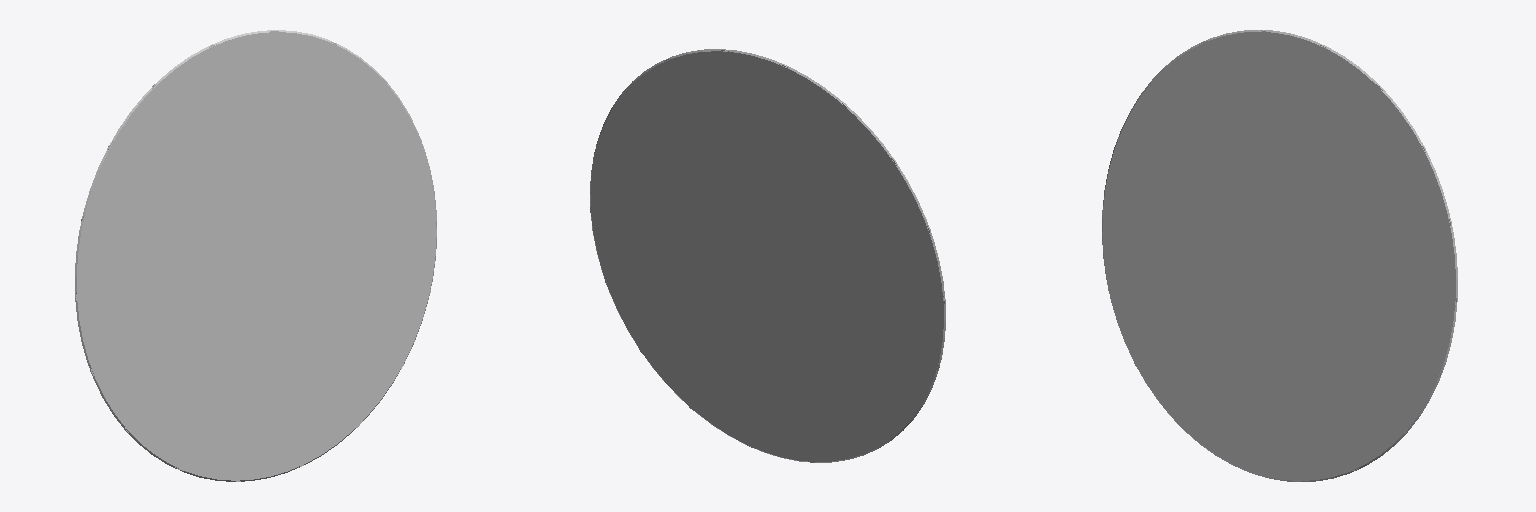
The model's file is Disk_porte.obj.
The picture shows the model from 3 angles: view 1: azimuth 30°, elevation 25°; view 2: azimuth 150°, elevation 25°; view 3: azimuth 330°, elevation 25°; orthographic projection.
Visible parts, largest first — view 1: uploads_files_[number redacted]_gramophone_disk.002; view 2: uploads_files_[number redacted]_gramophone_disk.002; view 3: uploads_files_[number redacted]_gramophone_disk.002.
Boxes of the visible parts, box(x1,y1,x2,y2) form: uploads_files_[number redacted]_gramophone_disk.002: box(75, 30, 436, 481); uploads_files_[number redacted]_gramophone_disk.002: box(590, 49, 945, 462); uploads_files_[number redacted]_gramophone_disk.002: box(1102, 30, 1457, 481).
Size of the model in its own units: 0.2106 by 0.2381 by 0.0292.